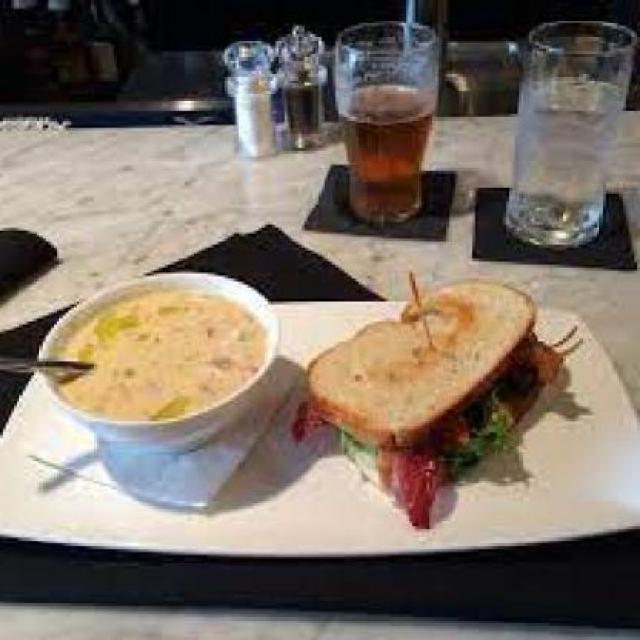clam chowder: (8, 248, 287, 472)
club sandwich: (276, 259, 598, 538)
